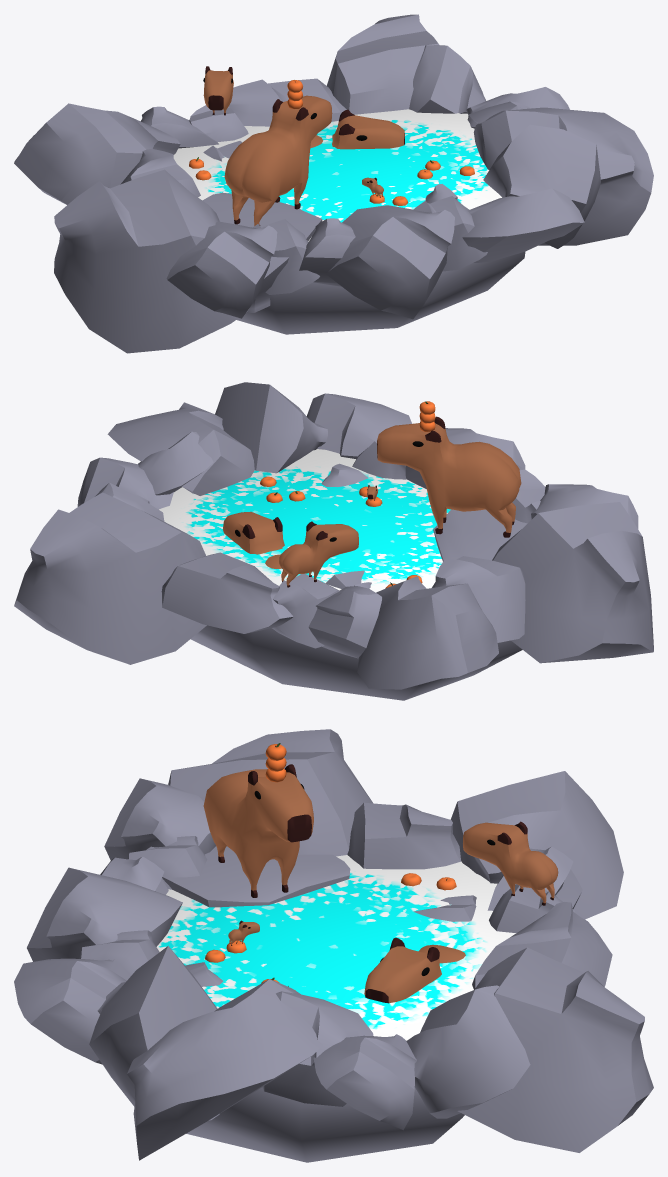
File: capybara_bath.glb
3 views of the same model, one above another, from view 1: azimuth 30°, elevation 25°; view 2: azimuth 150°, elevation 25°; view 3: azimuth 270°, elevation 25° (orthographic). The views are drawn at different scales.
Visible parts, largest first — view 1: Plane.001_10, Plane.006_15, Plane.004_13, Plane.013_22, Plane.007_16, Plane_9, Plane.012_21, Plane.005_14, Plane.003_12, Plane.015_24, Plane.011_20, Plane.022_31 (+11 smaller); view 2: Plane.001_10, Plane.012_21, Plane.006_15, Plane.007_16, Plane_9, Plane.016_25, Plane.005_14, Plane.013_22, Plane.002_11, Plane.015_24, Plane.017_26, Plane.022_31 (+12 smaller); view 3: Plane.001_10, Plane.012_21, Plane.013_22, Plane.007_16, Plane.011_20, Plane.006_15, Plane_9, Plane.005_14, Plane.004_13, Plane.015_24, Plane.014_23, Plane.002_11 (+13 smaller).
Boxes of the visible parts, x1,y1,x2,y2 form: Plane.001_10: (173,109,525,334); Plane.006_15: (54,169,248,353); Plane.004_13: (326,205,454,319); Plane.013_22: (473,107,653,245); Plane.007_16: (14,103,180,204); Plane_9: (224,95,332,225); Plane.012_21: (326,14,439,114); Plane.005_14: (483,124,600,248); Plane.003_12: (166,221,277,318); Plane.015_24: (462,188,584,262); Plane.011_20: (409,45,485,113); Plane.022_31: (202,192,322,312); Plane.001_10: (159,449,522,700); Plane.012_21: (14,492,206,664); Plane.006_15: (492,502,653,663); Plane.007_16: (357,576,498,689); Plane_9: (377,416,521,537); Plane.016_25: (161,552,293,633); Plane.005_14: (215,382,327,473); Plane.013_22: (107,402,254,495); Plane.002_11: (432,556,525,642); Plane.015_24: (306,393,411,458); Plane.017_26: (308,586,381,658); Plane.022_31: (433,509,527,561); Plane.001_10: (156,855,516,1162); Plane.012_21: (457,947,653,1152); Plane.013_22: (127,979,322,1160); Plane.007_16: (450,771,623,919); Plane.011_20: (406,985,530,1118); Plane.006_15: (168,729,372,856); Plane_9: (203,764,313,897); Plane.005_14: (89,946,219,1120); Plane.004_13: (27,867,182,961); Plane.015_24: (14,958,131,1064); Plane.014_23: (313,1034,416,1130); Plane.002_11: (347,802,460,869).
Size of the model in its own units: 16.43 by 7.18 by 13.02.
Materials: 7 (1 with a texture image).
